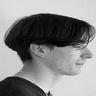ear: (26, 36, 52, 61)
